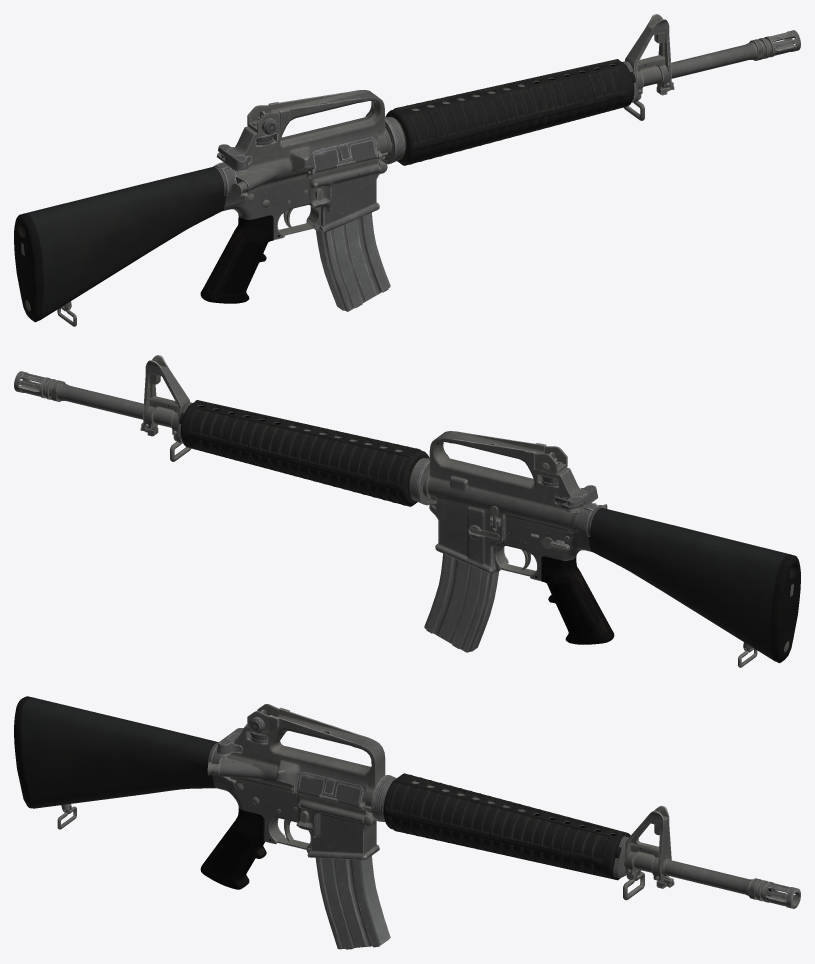
The model's file is m16_a2_rifle.glb.
The picture shows the model from 3 angles, top to bottom: view 1: azimuth 30°, elevation 25°; view 2: azimuth 150°, elevation 25°; view 3: azimuth 330°, elevation 25°; orthographic projection.
Parts seen in each view (by area): view 1: m16a2, magazine_m16a2_0, ejection_port_cover_m16a2_0; view 2: m16a2, magazine_m16a2_0; view 3: m16a2, magazine_m16a2_0, ejection_port_cover_m16a2_0.
Boxes of the visible parts, x1=… form: m16a2: x1=14, y1=14, x2=800, y2=326; magazine_m16a2_0: x1=316, y1=212, x2=390, y2=311; ejection_port_cover_m16a2_0: x1=312, y1=137, x2=377, y2=172; m16a2: x1=14, y1=355, x2=800, y2=667; magazine_m16a2_0: x1=424, y1=553, x2=498, y2=652; m16a2: x1=14, y1=696, x2=800, y2=908; magazine_m16a2_0: x1=315, y1=856, x2=390, y2=949; ejection_port_cover_m16a2_0: x1=296, y1=771, x2=362, y2=807.
Size of the model in its own units: 95.61 by 25.73 by 6.74.
1 material, 1 textured.
